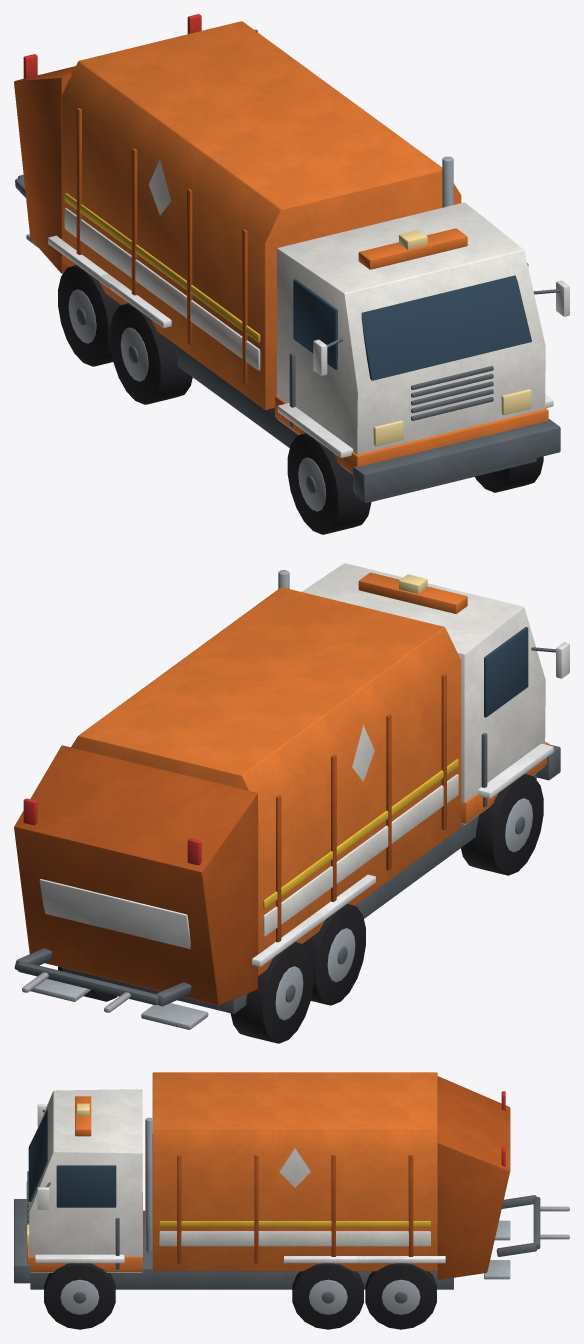
The model's file is camion_basura.gltf.
The picture shows the model from 3 angles, top to bottom: view 1: azimuth 30°, elevation 25°; view 2: azimuth 150°, elevation 25°; view 3: azimuth 270°, elevation 25°; orthographic projection. The views are drawn at different scales.
Visible parts, largest first — view 1: camion_basura, rueda_del_izq, rueda_tras1_izq, rueda_tras2_izq, rueda_del_der; view 2: camion_basura, rueda_del_izq, rueda_tras2_izq, rueda_tras1_izq, brazo; view 3: camion_basura, rueda_del_der, rueda_tras2_der, rueda_tras1_der, brazo.
Part boxes in pixels (x1=…): camion_basura: x1=14, y1=14, x2=569, y2=503; rueda_del_izq: x1=287, y1=433, x2=371, y2=534; rueda_tras1_izq: x1=110, y1=303, x2=192, y2=404; rueda_tras2_izq: x1=58, y1=265, x2=121, y2=366; rueda_del_der: x1=475, y1=456, x2=543, y2=492; camion_basura: x1=14, y1=563, x2=569, y2=1029; rueda_del_izq: x1=461, y1=774, x2=543, y2=875; rueda_tras2_izq: x1=230, y1=942, x2=313, y2=1043; rueda_tras1_izq: x1=303, y1=903, x2=365, y2=1005; brazo: x1=14, y1=948, x2=191, y2=1012; camion_basura: x1=14, y1=1072, x2=510, y2=1289; rueda_del_der: x1=44, y1=1263, x2=115, y2=1329; rueda_tras2_der: x1=365, y1=1263, x2=436, y2=1329; rueda_tras1_der: x1=292, y1=1263, x2=363, y2=1329; brazo: x1=496, y1=1195, x2=569, y2=1256.
Size of the model in its own units: 3.04 by 3.4 by 8.39.
11 materials, 9 textured.
